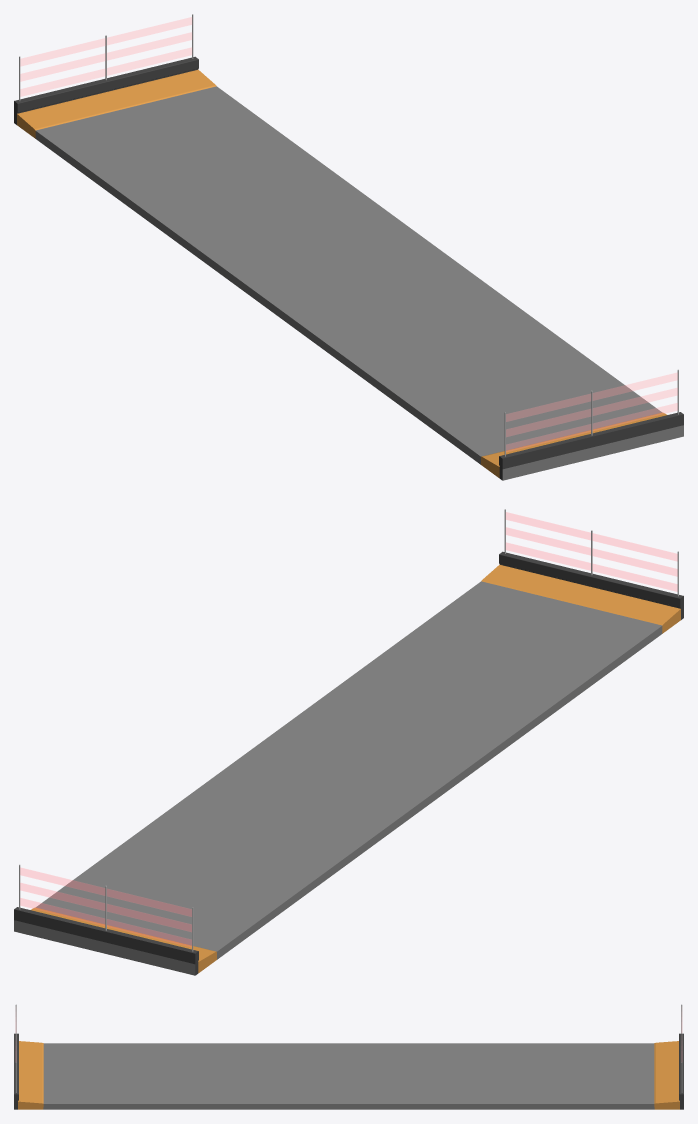
The model's file is BasicWide-1.fbx.
3 renders of one model, top to bottom at view 1: azimuth 30°, elevation 25°; view 2: azimuth 150°, elevation 25°; view 3: azimuth 270°, elevation 25°, orthographic. The views are drawn at different scales.
Visible parts, largest first — view 1: Cube; view 2: Cube; view 3: Cube.
Part boxes in pixels (left/top/right/bottom): Cube: left=14, top=14, right=683, bottom=480; Cube: left=14, top=509, right=683, bottom=975; Cube: left=14, top=1004, right=683, bottom=1109.
Bounding box in the file's own units: 1500 × 525 × 7000.
